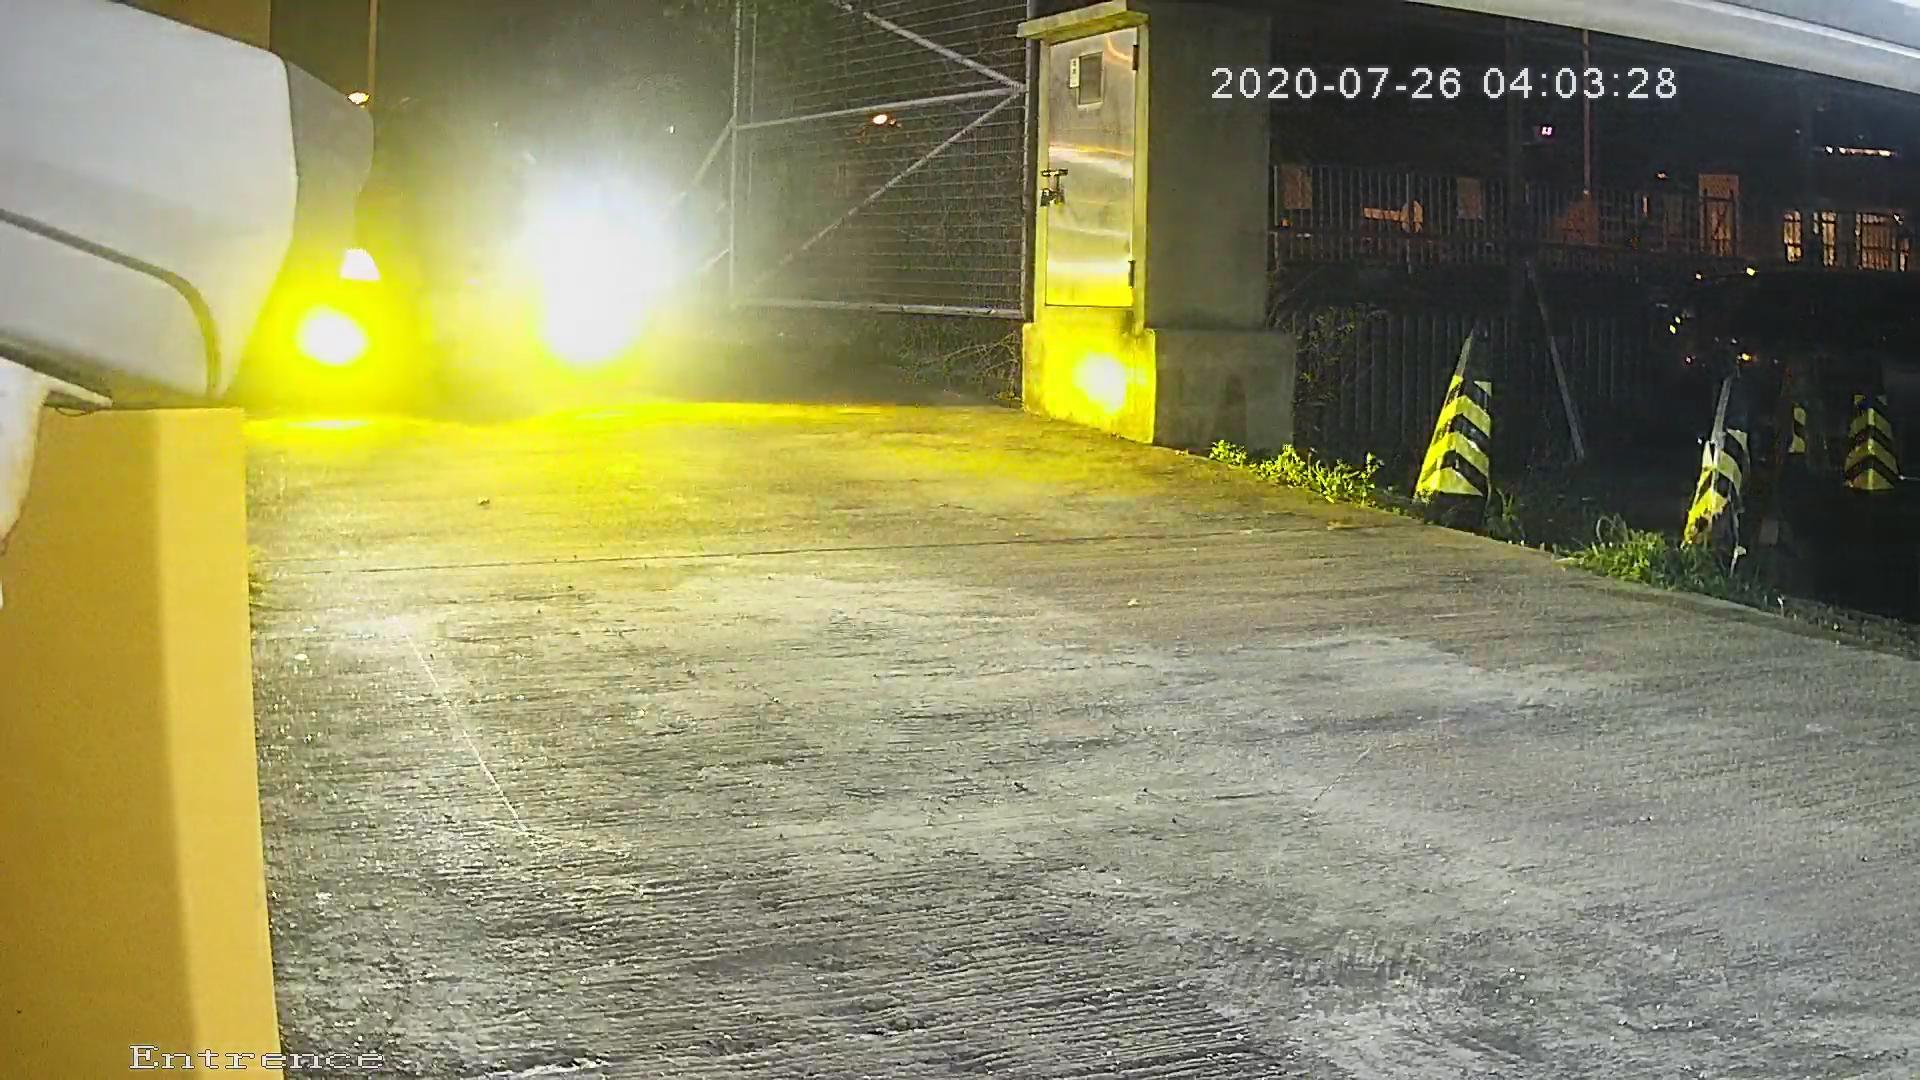privatecar: (233, 102, 708, 489)
